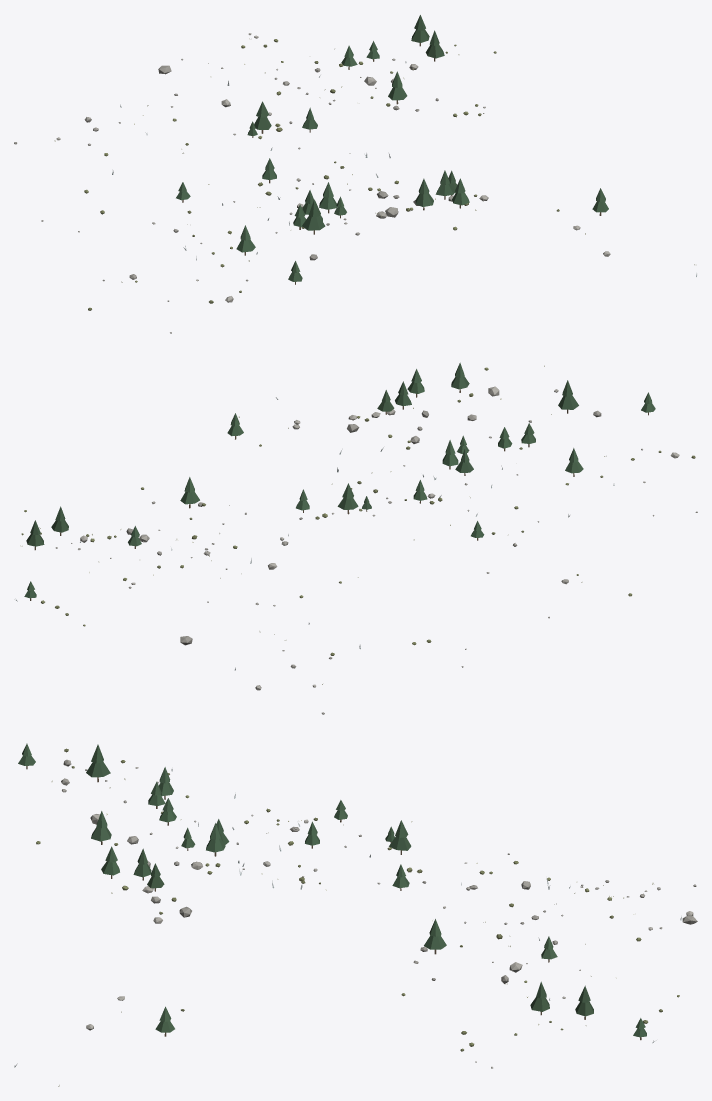
Rendered from coast_land_scatter_c09_23_lod1.glb.
3 views of the same model, one above another, from view 1: azimuth 30°, elevation 25°; view 2: azimuth 150°, elevation 25°; view 3: azimuth 270°, elevation 25° (orthographic). The views are drawn at different scales.
Parts seen in each view (by area): view 1: coast_land_scatter_c09_23_lod1; view 2: coast_land_scatter_c09_23_lod1; view 3: coast_land_scatter_c09_23_lod1.
Boxes of the visible parts, bbox=[...] form: coast_land_scatter_c09_23_lod1: bbox=[14, 15, 696, 333]; coast_land_scatter_c09_23_lod1: bbox=[14, 362, 697, 714]; coast_land_scatter_c09_23_lod1: bbox=[14, 743, 697, 1086].
Bounding box in the file's own units: 243 × 63.47 × 256.
